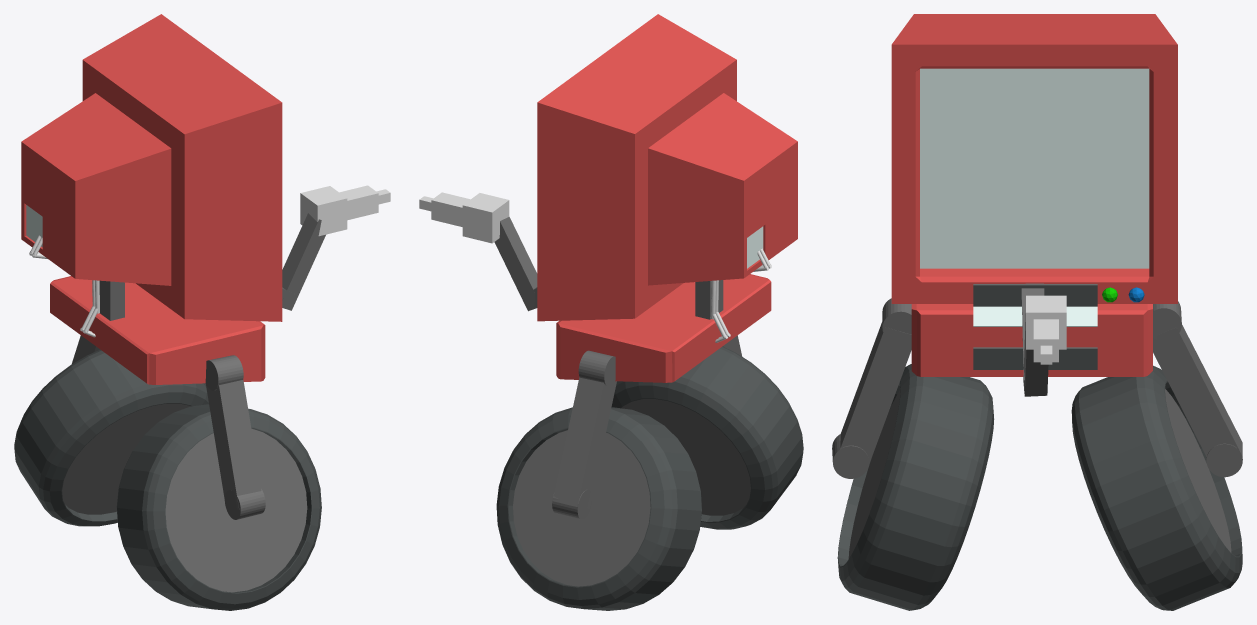
The model's file is Player.fbx.
3 views of the same model, side by side, from view 1: azimuth 30°, elevation 25°; view 2: azimuth 150°, elevation 25°; view 3: azimuth 270°, elevation 25° (orthographic). The views are drawn at different scales.
Visible parts, largest first — view 1: Cube, Cylinder, Cylinder.005, Cube.003, Cube.001, Cube.009, Cube.004, Cylinder.003, Cube.006, Cube.008, Cylinder.004; view 2: Cube, Cylinder.005, Cylinder, Cube.003, Cube.002, Cube.009, Cube.004, Cylinder.002, Cube.006, Cube.008, Cylinder.001; view 3: Cube, Cylinder.005, Cylinder, Cube.003, Cube.002, Cube.001, Cube.005, Cube.012, Cube.010, Cube.004, Cylinder.004, Cube.009 (+4 smaller).
Boxes of the visible parts, x1,y1,x2,y2 form: Cube: (21, 14, 282, 321); Cylinder: (116, 404, 321, 610); Cylinder.005: (14, 349, 208, 526); Cube.003: (50, 276, 265, 384); Cube.001: (206, 380, 261, 509); Cube.009: (282, 213, 325, 310); Cube.004: (300, 186, 347, 236); Cylinder.003: (205, 355, 243, 390); Cube.006: (339, 185, 378, 220); Cube.008: (99, 280, 124, 320); Cylinder.004: (224, 489, 265, 519); Cube: (537, 14, 797, 321); Cylinder.005: (496, 407, 701, 610); Cylinder: (611, 346, 803, 529); Cube.003: (556, 274, 771, 382); Cube.002: (552, 377, 616, 508); Cube.009: (494, 217, 537, 311); Cube.004: (462, 193, 509, 243); Cylinder.002: (578, 350, 615, 386); Cube.006: (431, 192, 470, 226); Cube.008: (695, 280, 723, 319); Cylinder.001: (552, 489, 592, 519); Cube: (891, 14, 1177, 303); Cylinder.005: (1071, 365, 1242, 610); Cylinder: (837, 364, 994, 610); Cube.003: (911, 304, 1152, 376); Cube.002: (1153, 325, 1242, 456); Cube.001: (840, 322, 911, 471); Cube.005: (973, 284, 1097, 306); Cube.012: (973, 347, 1097, 369); Cube.010: (973, 306, 1097, 326); Cube.004: (1026, 295, 1066, 349); Cylinder.004: (832, 434, 869, 478); Cube.009: (1023, 313, 1048, 396).
Size of the model in its own units: 399 by 535 by 340.
